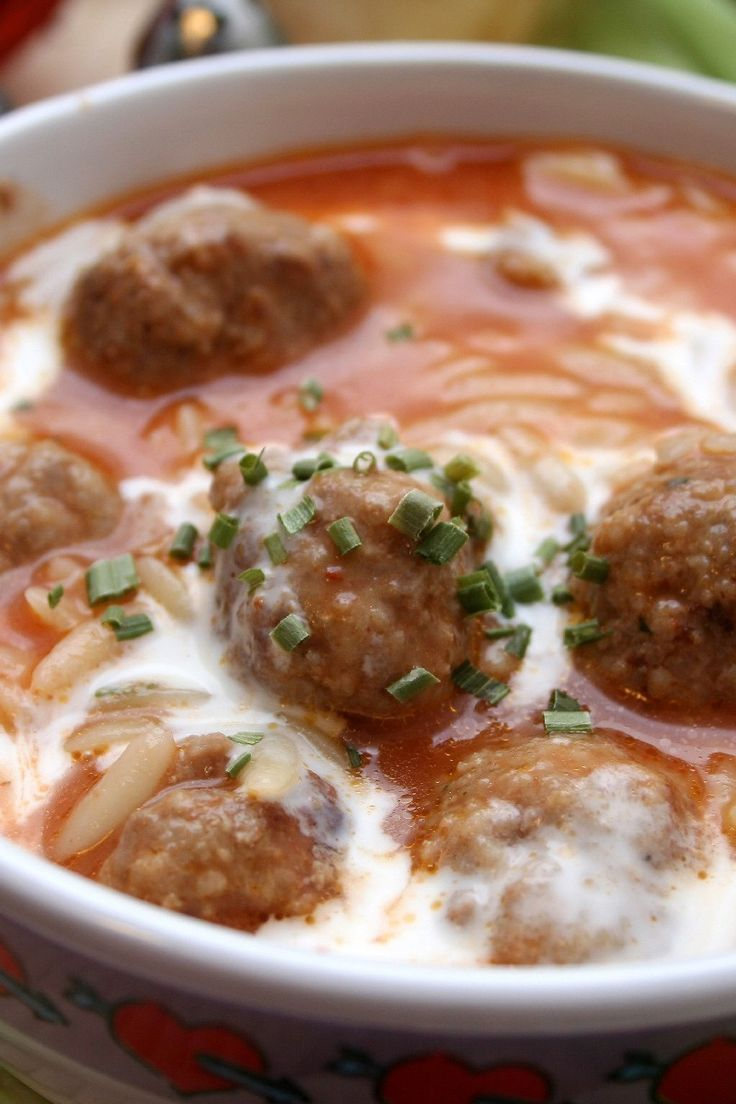meatballs: (227, 458, 501, 708), (432, 726, 670, 959), (56, 185, 348, 362), (557, 462, 736, 685), (107, 738, 316, 902)
